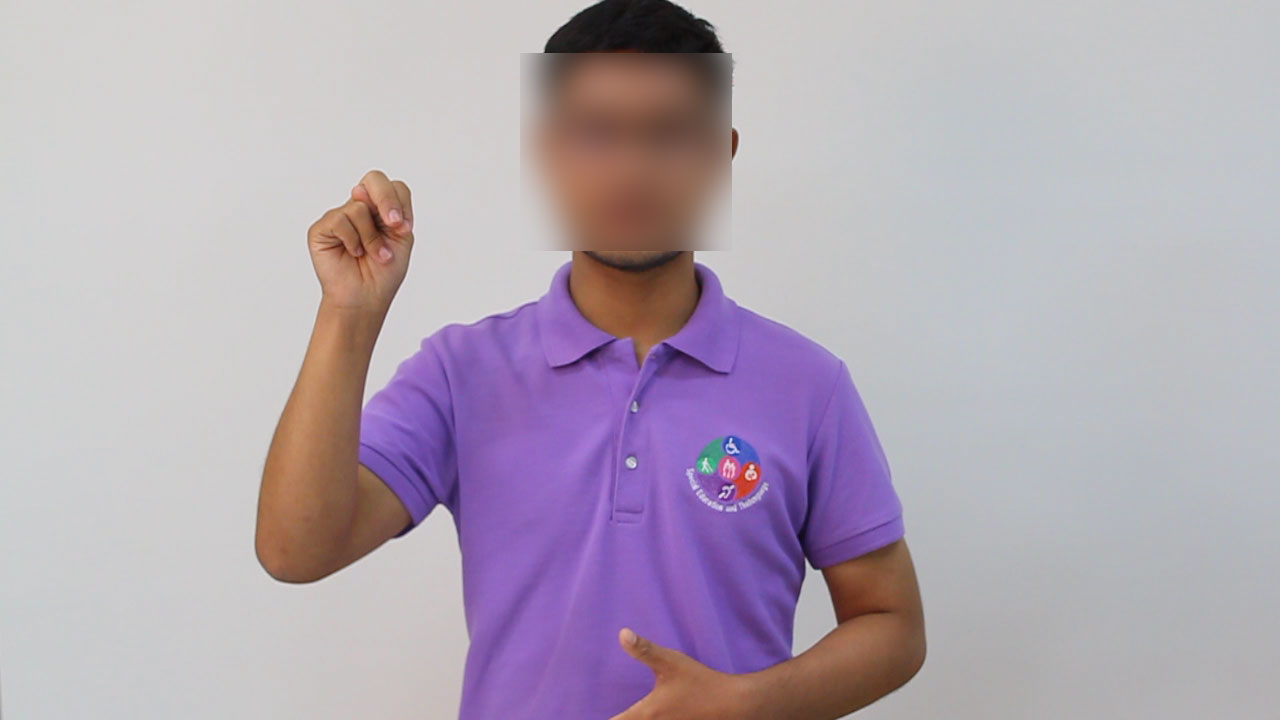nor: (296, 162, 428, 312)
